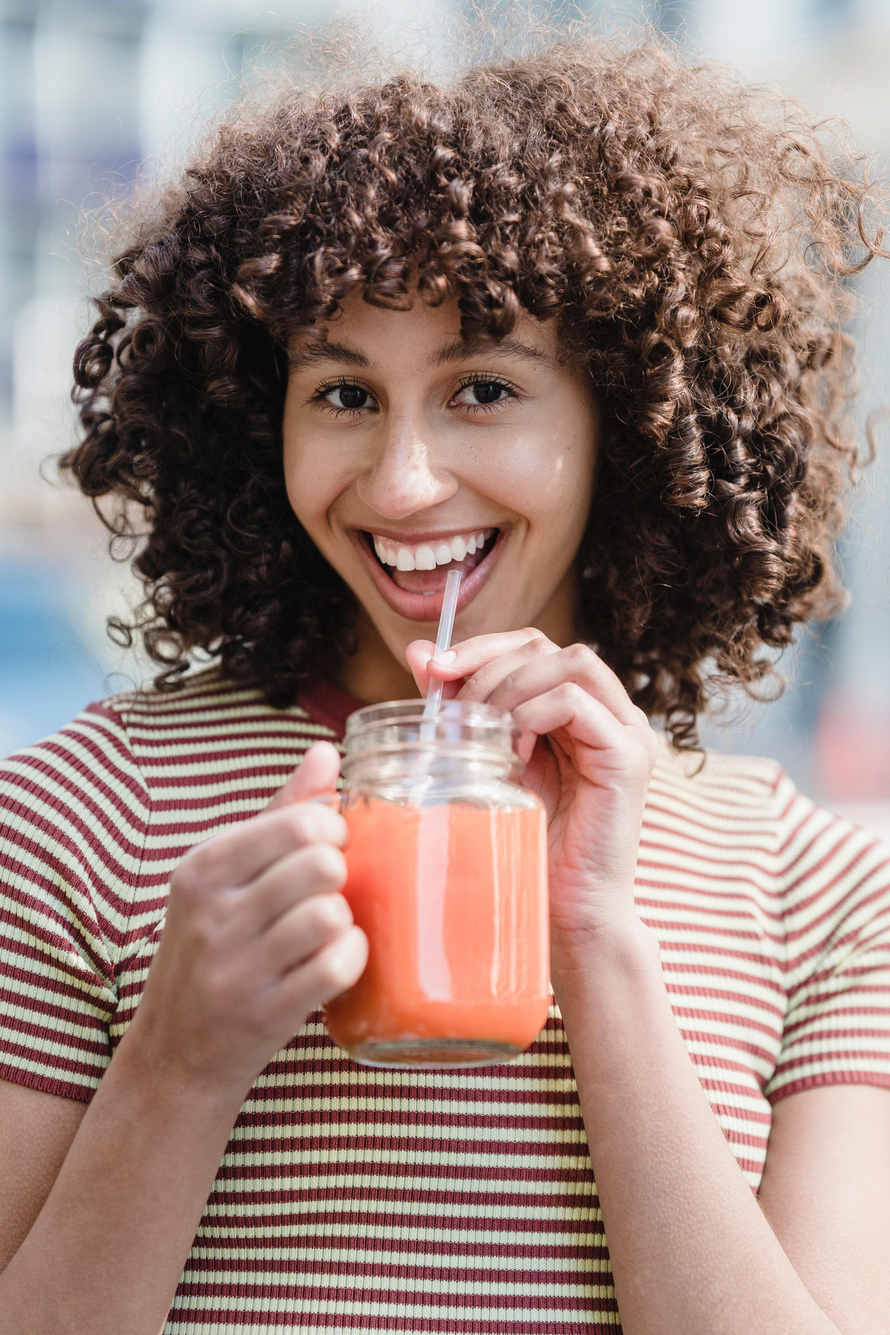glass-mug: (283, 684, 560, 1066)
